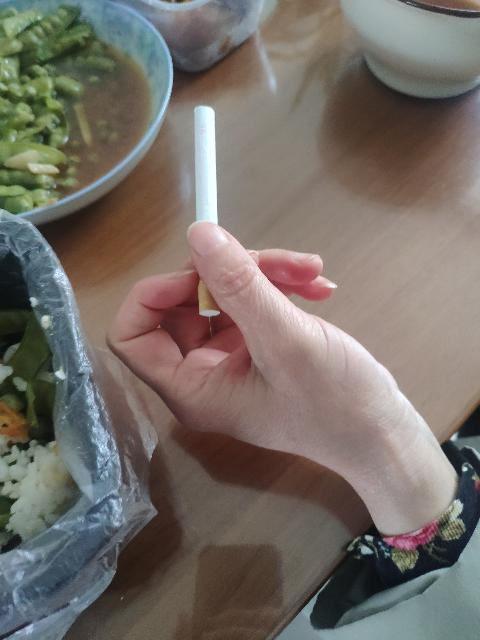Cigarette: (194, 106, 222, 318)
